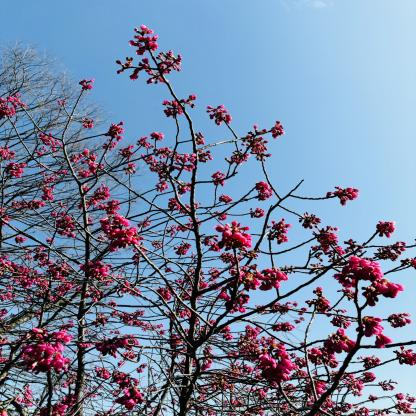Ume: (0, 24, 412, 416)
